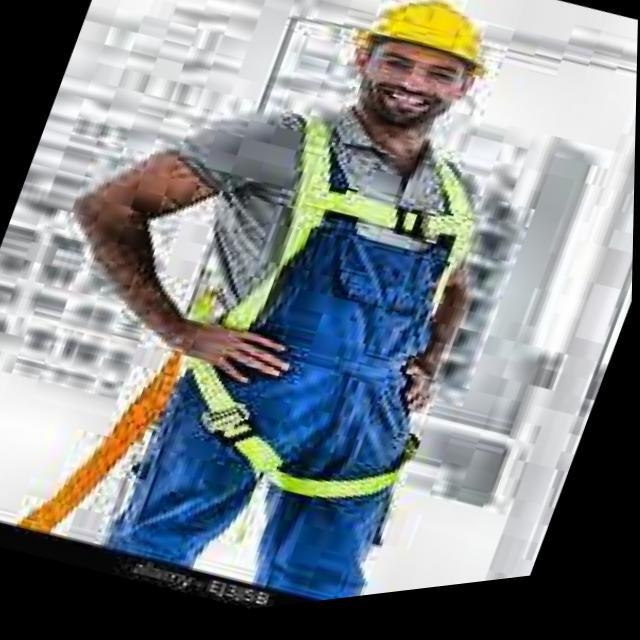belt: (127, 74, 531, 555)
